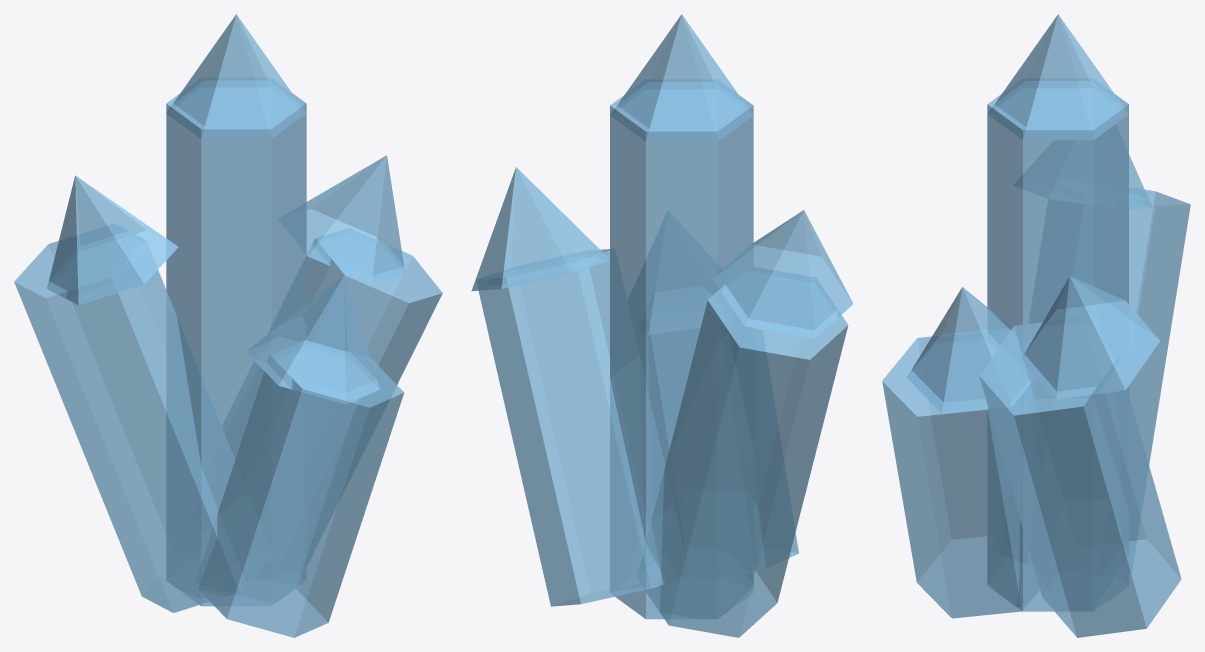
The model's file is IceCrystal.fbx.
3 renders of one model, left to right at view 1: azimuth 30°, elevation 25°; view 2: azimuth 150°, elevation 25°; view 3: azimuth 270°, elevation 25°, orthographic. The views are drawn at different scales.
Parts seen in each view (by area): view 1: Ice; view 2: Ice; view 3: Ice.
Part boxes in pixels (x1=…): Ice: x1=14, y1=14, x2=442, y2=637; Ice: x1=471, y1=14, x2=853, y2=637; Ice: x1=882, y1=14, x2=1190, y2=637.
Bounding box in the file's own units: 1.92 × 2.92 × 1.39.
